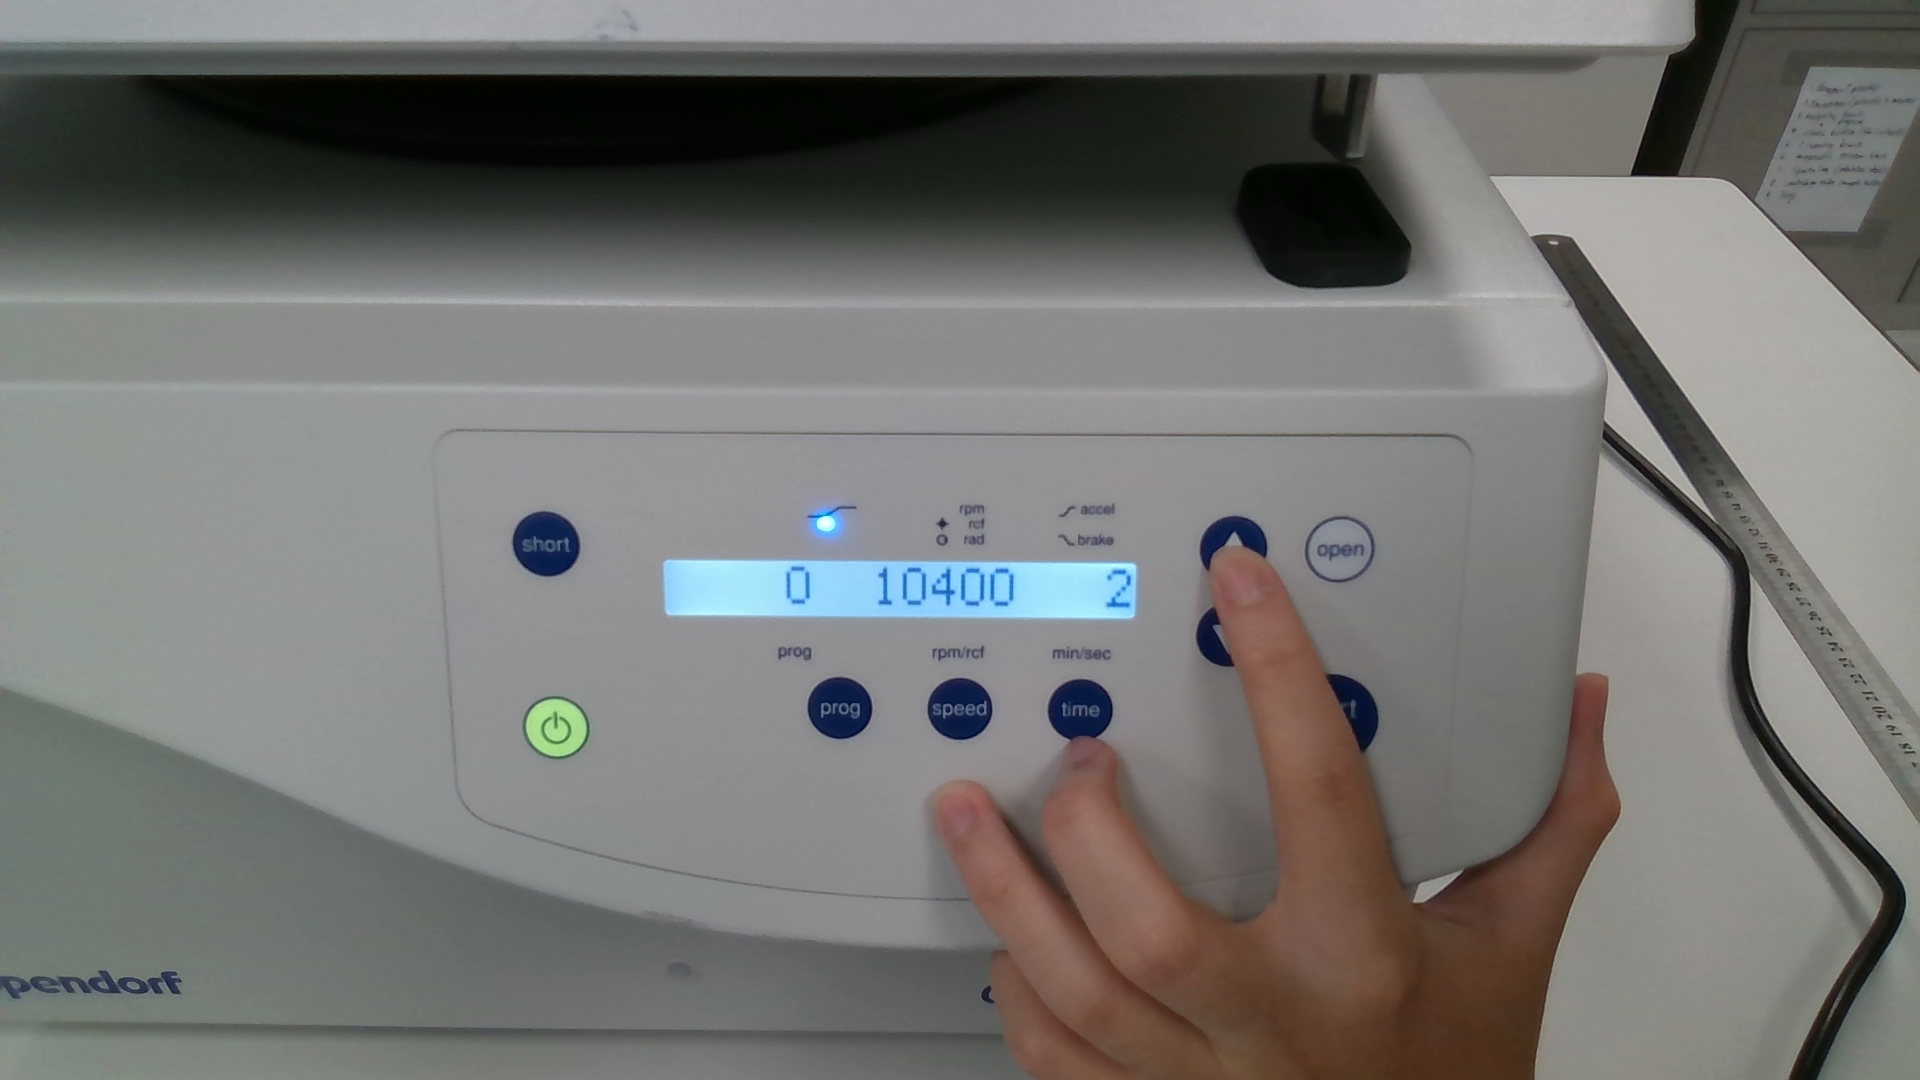0: (786, 566, 811, 605), (902, 567, 927, 607), (960, 568, 985, 607), (989, 568, 1014, 607)
1: (877, 566, 893, 607)
2: (1106, 568, 1131, 608)
4: (931, 567, 956, 607)
open_off: (1304, 516, 1375, 584)
power_on: (522, 696, 589, 760)
